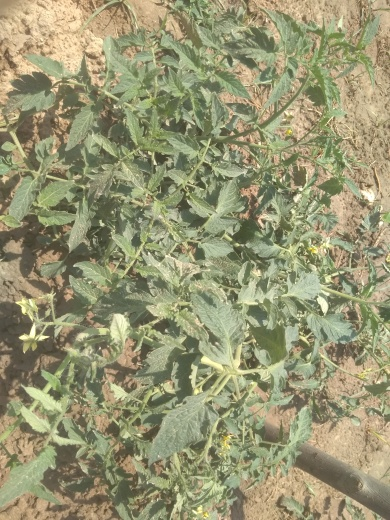tomato flower: (14, 321, 47, 357), (7, 292, 46, 319), (212, 426, 240, 458)
tomato plant: (15, 66, 347, 479)
